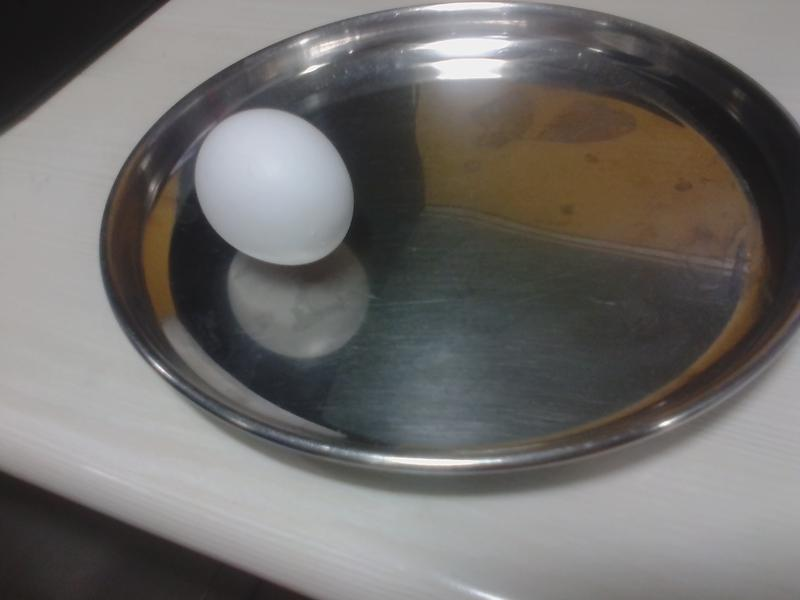egg: (193, 104, 356, 261)
